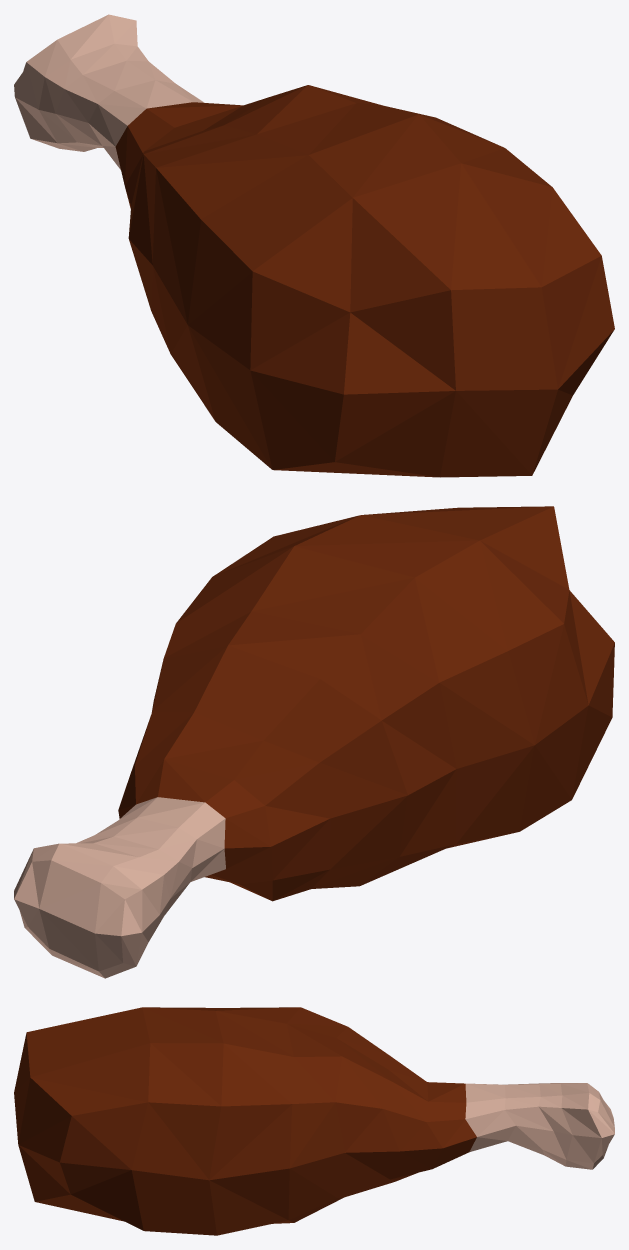
The model's file is Kip_Poot.FBX.
The picture shows the model from 3 angles, top to bottom: view 1: azimuth 30°, elevation 25°; view 2: azimuth 150°, elevation 25°; view 3: azimuth 270°, elevation 25°; orthographic projection. The views are drawn at different scales.
Visible parts, largest first — view 1: Kip_Poot; view 2: Kip_Poot; view 3: Kip_Poot.
Boxes of the visible parts, x1,y1,x2,y2 form: Kip_Poot: (14, 14, 614, 477); Kip_Poot: (14, 506, 614, 978); Kip_Poot: (14, 1007, 614, 1235).
Bounding box in the file's own units: 671 × 1539 × 536.
